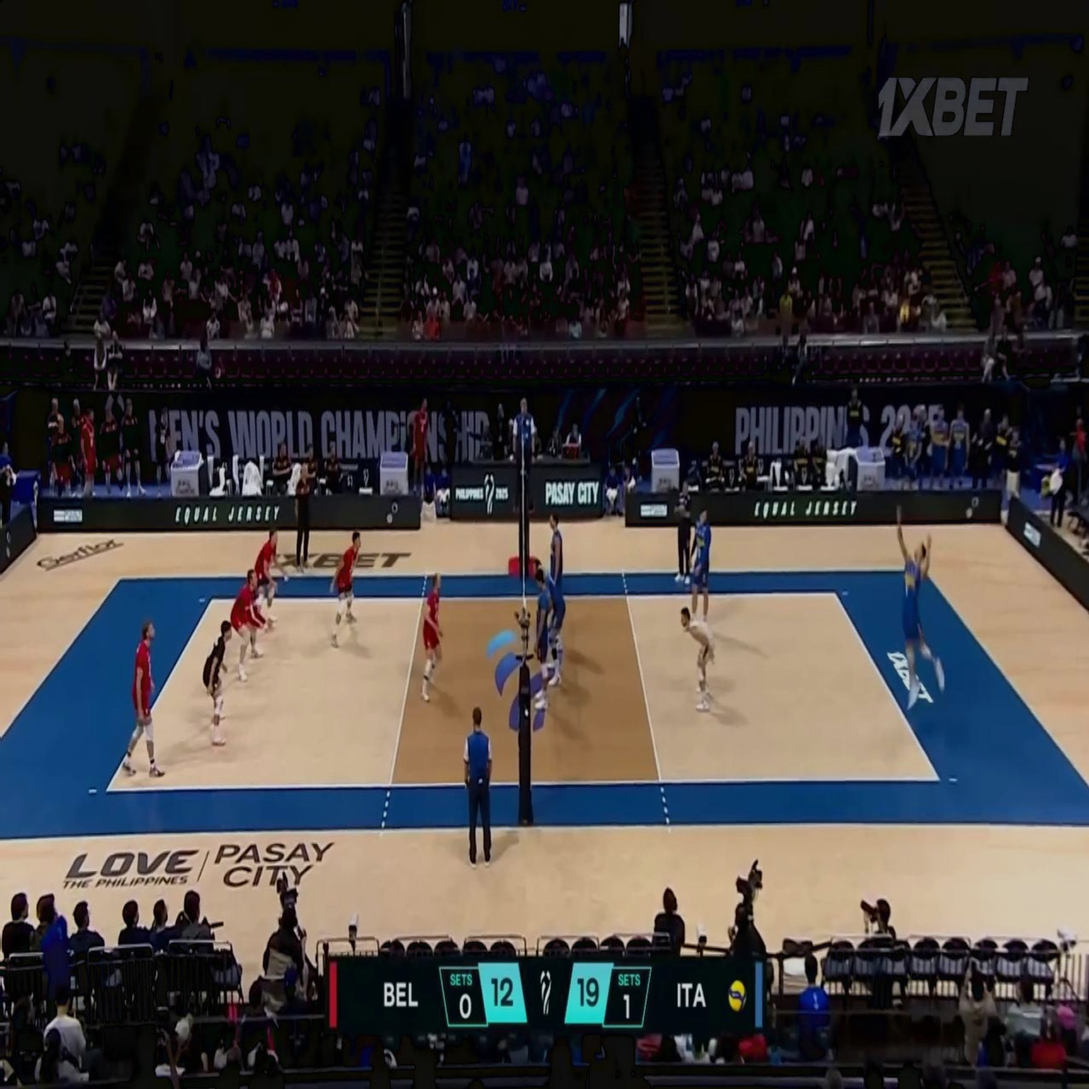ball: (899, 302, 909, 324)
